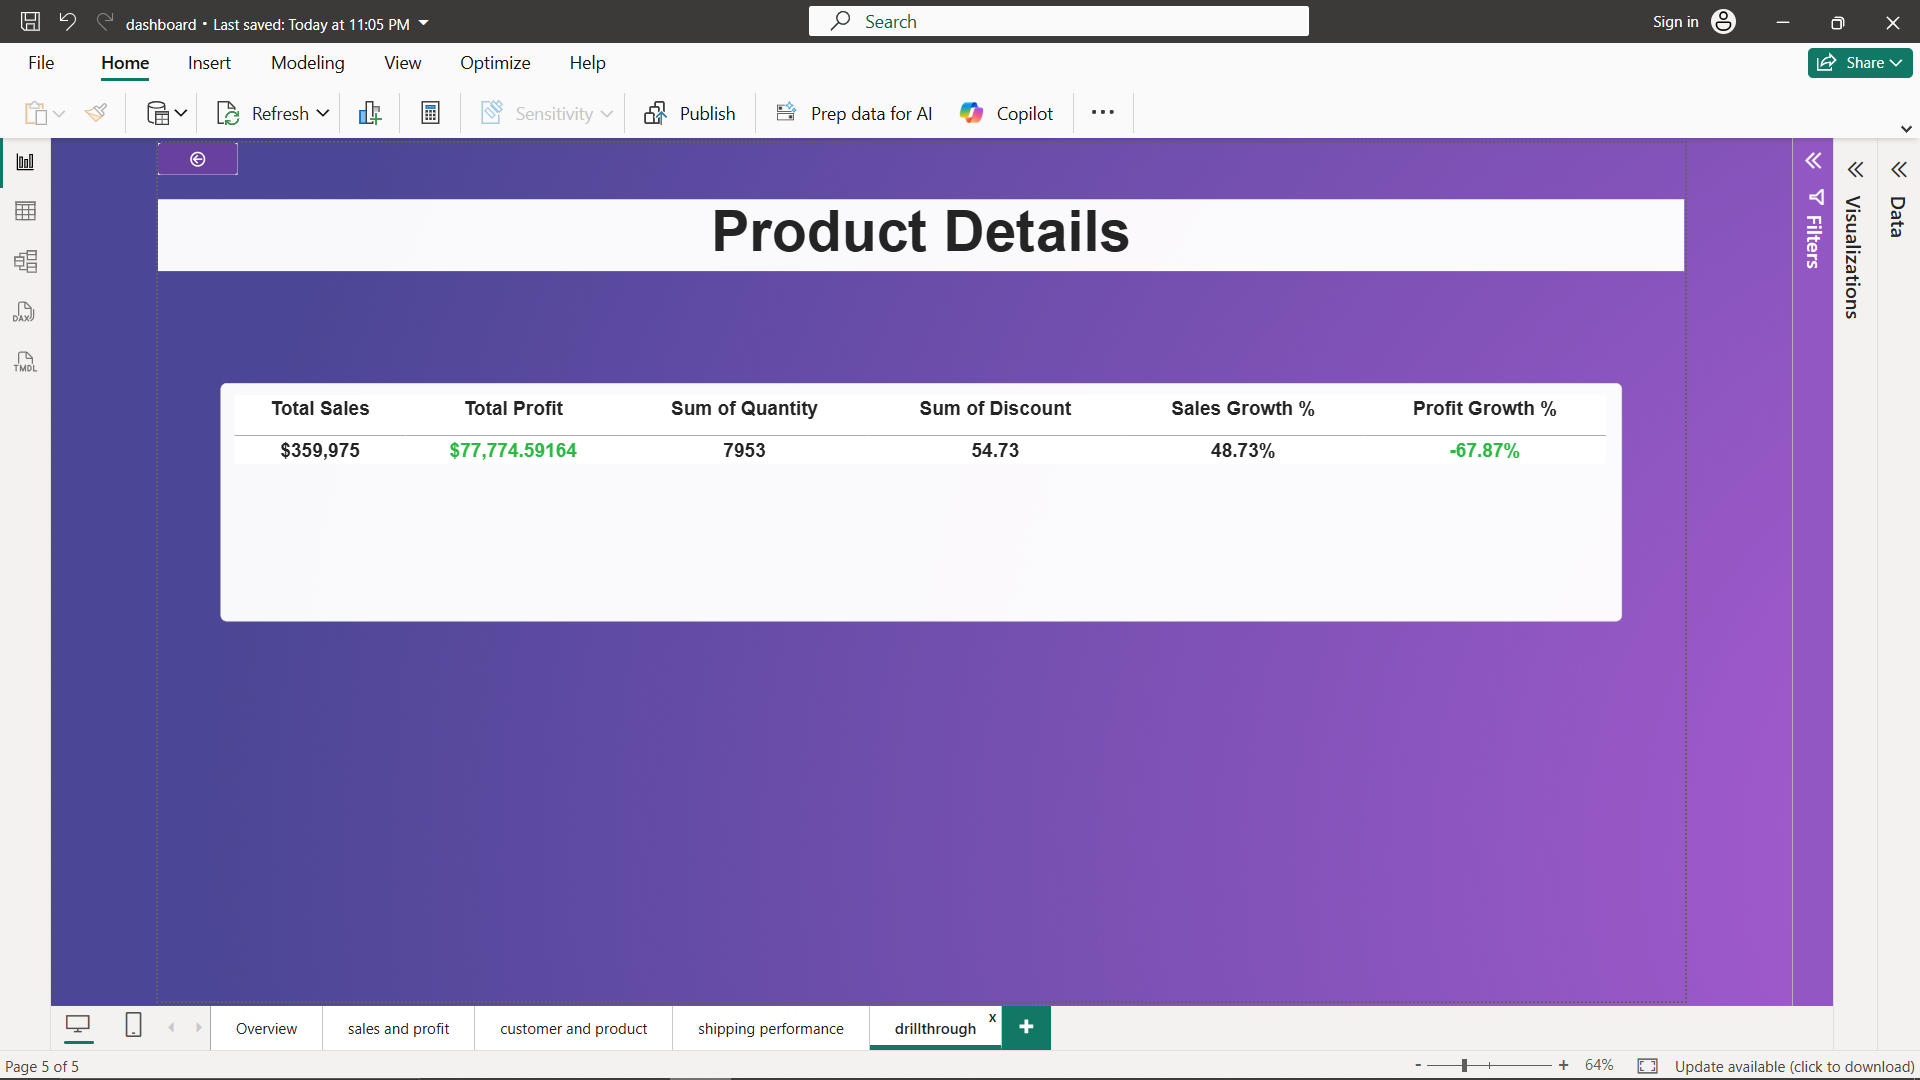

The dashboard page shown, as its layout file describes it:
{"tool":"powerbi","page":{"name":"drillthrough","canvas":[1920,1080],"ordinal":4},"visuals":[{"type":"actionButton","box":[0,0,100,40],"z":0},{"type":"tableEx","fields":{"Values":["DateTable.Total Sales","DateTable.Total Profit","Sum(superstore.Quantity)","Sum(superstore.Discount)","DateTable.Sales Growth %","DateTable.Profit Growth %"]},"box":[78.5,301.7,1763.4,300],"z":1},{"type":"textbox","title":"Global Superstore - Executive Business Overview","box":[0,70.8,1920.4,90.7],"z":2}]}

Visuals, with their boxes on the page's 1920x1080 design canvas (x1, y1, x2, y2). These are canvas units, not pixel positions in the 1920x1080 screenshot, which may show the page scaled, cropped or inside an application window:
actionButton: 0:0:100:40
tableEx - DateTable.Total Sales x DateTable.Total Profit: 78:302:1842:602
"Global Superstore - Executive Business Overview" textbox: 0:71:1920:162
